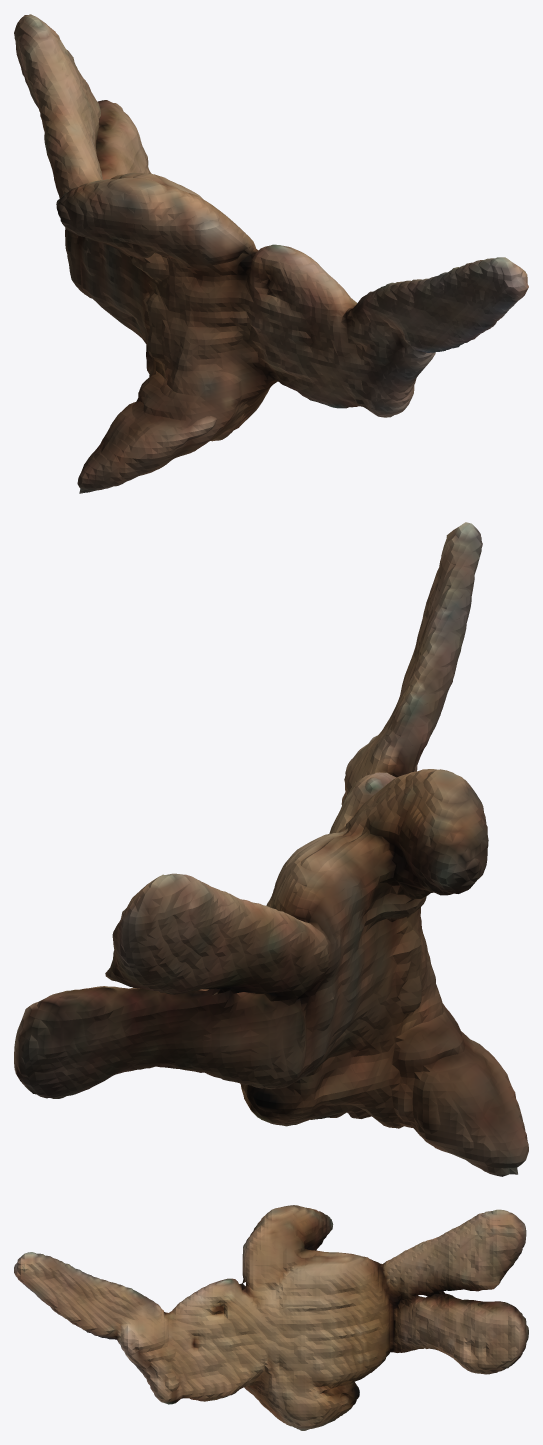
File: rabbit.obj
3 views of the same model, one above another, from view 1: azimuth 30°, elevation 25°; view 2: azimuth 150°, elevation 25°; view 3: azimuth 270°, elevation 25° (orthographic). The views are drawn at different scales.
Bounding box in the file's own units: 0.361 × 0.4455 × 0.9525.
